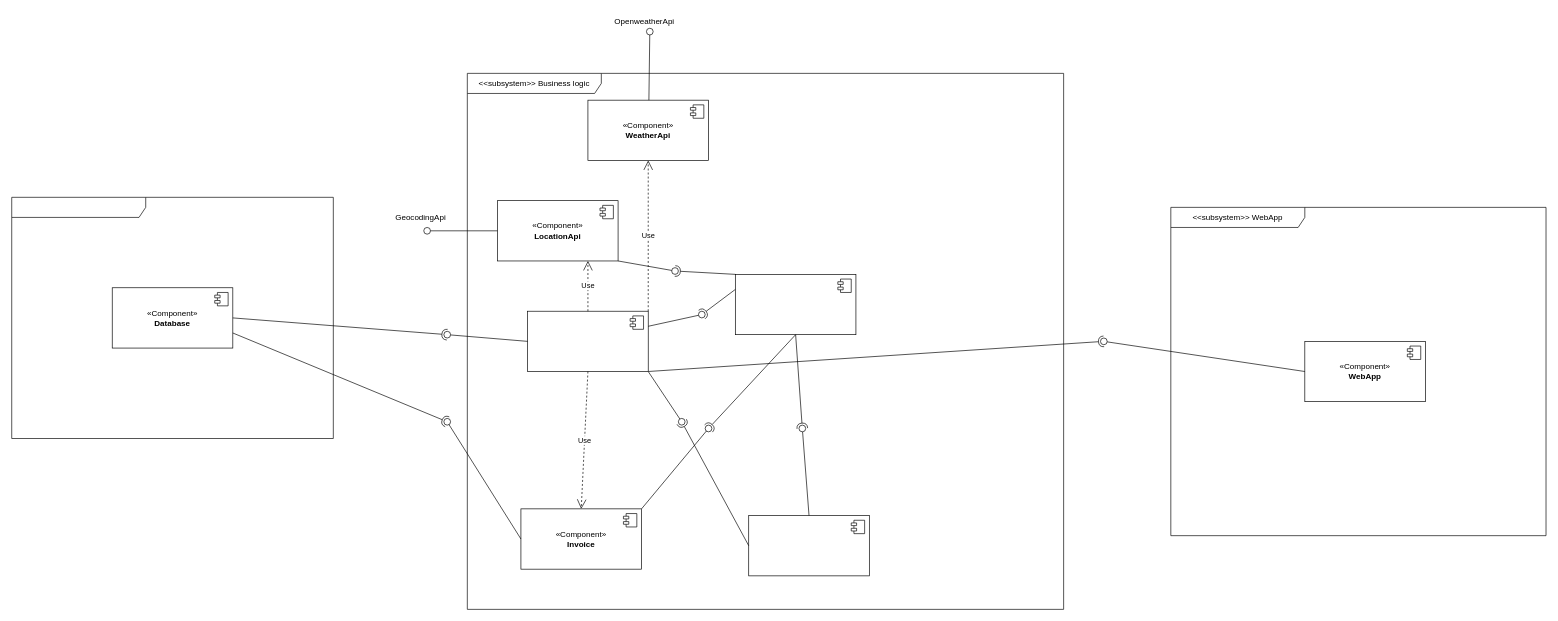
Some shapes in this 1558 by 621 pixel diagram are drawn without their labels. Here are the shapes that lost their labels. From the top down, the centre of each, then its label:
[172,318]: <<subsystem>> Data access layer
[795,304]: «Component» AuditLog
[587,341]: «Component» User
[808,545]: «Component» Email
